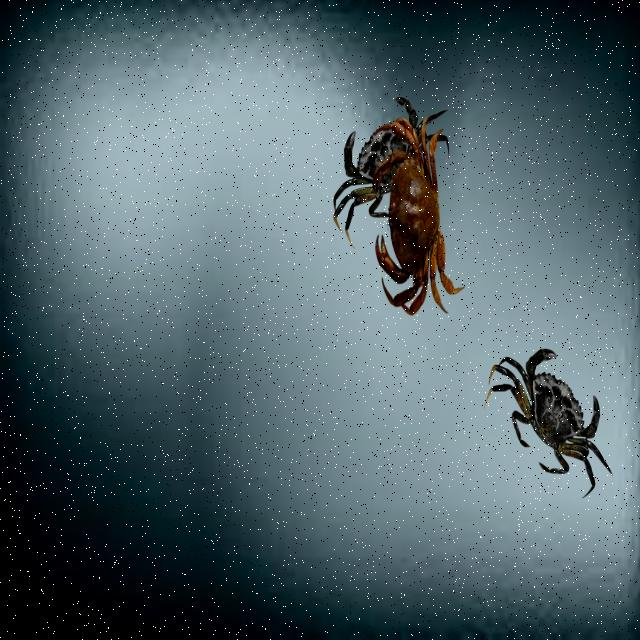European_Green_Crab: (476, 313, 632, 525), (313, 67, 466, 256)
